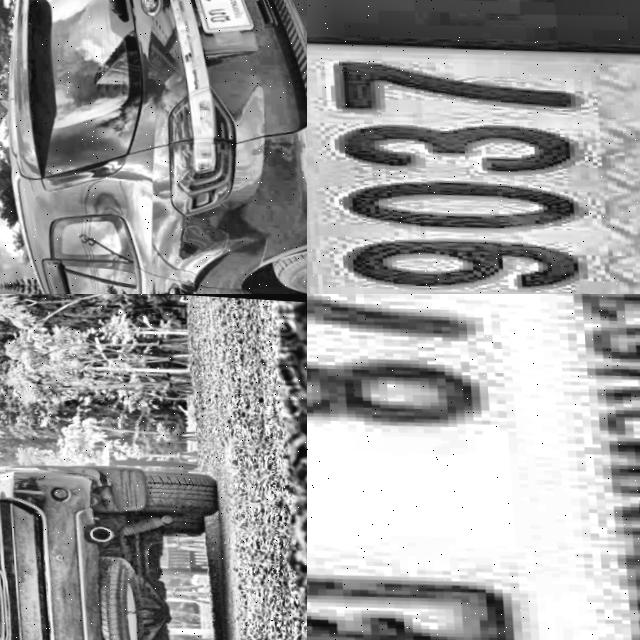license-plate: (307, 294, 640, 640), (307, 0, 640, 294), (185, 0, 255, 31)
